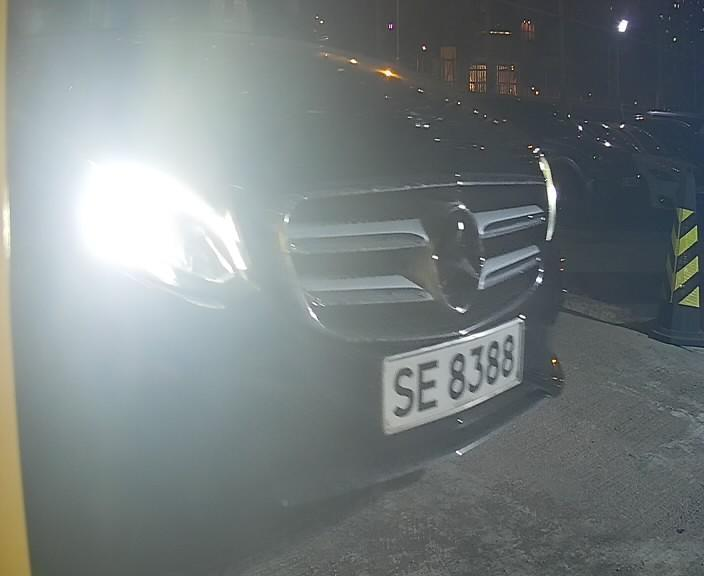License Plate: (378, 314, 529, 435)
